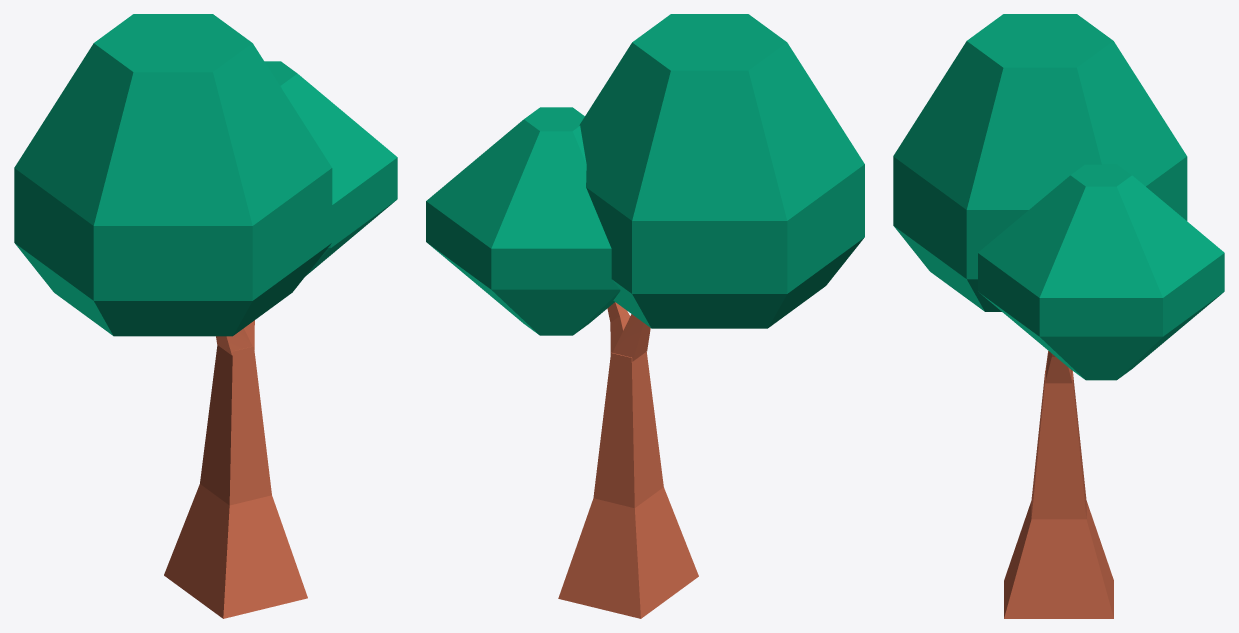
File: tree3.fbx
The picture shows the model from 3 angles, left to right: view 1: azimuth 30°, elevation 25°; view 2: azimuth 150°, elevation 25°; view 3: azimuth 270°, elevation 25°; orthographic projection. The views are drawn at different scales.
Parts seen in each view (by area): view 1: mergedBlocks; view 2: mergedBlocks; view 3: mergedBlocks.
Part boxes in pixels (bbox=[...]): mergedBlocks: bbox=[14, 14, 397, 618]; mergedBlocks: bbox=[426, 14, 864, 618]; mergedBlocks: bbox=[893, 14, 1224, 618].
Bounding box in the file's own units: 14.4 × 22.8 × 13.02.
